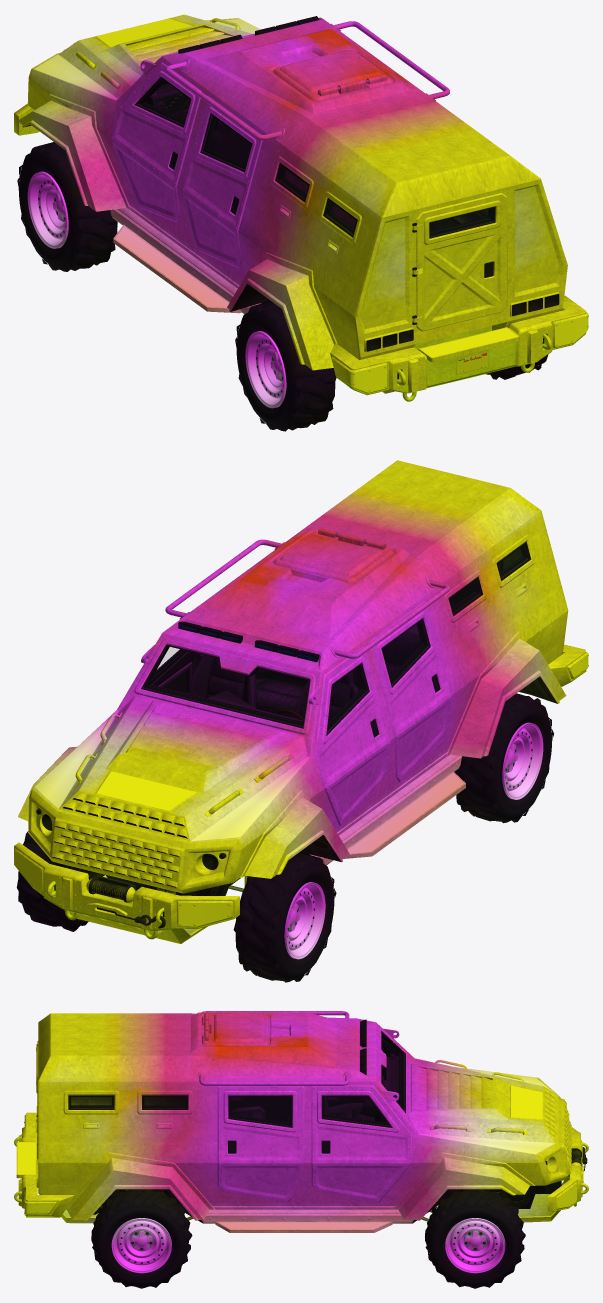
File: insurgent2.glb
The picture shows the model from 3 angles, top to bottom: view 1: azimuth 30°, elevation 25°; view 2: azimuth 150°, elevation 25°; view 3: azimuth 270°, elevation 25°; orthographic projection. The views are drawn at different scales.
Visible parts, largest first — view 1: bodyshell, boot, wheel_lr, wheel_lf, door_dside_f, door_dside_r, chassis, window_lr, window_lf, windscreen_r; view 2: bodyshell, chassis, wheel_lf, door_dside_f, wheel_lr, door_dside_r, wheel_rf, window_lr, door_pside_f, window_lf; view 3: bodyshell, door_pside_f, door_pside_r, wheel_rr, wheel_rf, chassis, window_rr, window_rf, door_dside_r, misc_c, misc_a, door_dside_f.
Boxes of the visible parts, left/top/right/bottom form: bodyshell: left=14, top=14, right=588, bottom=401; boot: left=412, top=193, right=507, bottom=331; wheel_lr: left=235, top=301, right=336, bottom=431; wheel_lf: left=17, top=142, right=117, bottom=271; door_dside_f: left=111, top=62, right=201, bottom=222; door_dside_r: left=181, top=96, right=262, bottom=267; chassis: left=25, top=81, right=559, bottom=351; window_lr: left=203, top=116, right=250, bottom=169; window_lf: left=139, top=79, right=189, bottom=124; windscreen_r: left=430, top=208, right=493, bottom=236; bodyshell: left=14, top=460, right=588, bottom=943; chassis: left=37, top=548, right=557, bottom=928; wheel_lf: left=233, top=853, right=336, bottom=982; door_dside_f: left=315, top=646, right=390, bottom=825; wheel_lr: left=454, top=693, right=553, bottom=823; door_dside_r: left=370, top=601, right=451, bottom=781; wheel_rf: left=16, top=831, right=88, bottom=931; window_lr: left=382, top=621, right=427, bottom=683; door_pside_f: left=148, top=649, right=194, bottom=693; window_lf: left=327, top=667, right=366, bottom=730; bodyshell: left=14, top=1011, right=588, bottom=1232; door_pside_f: left=311, top=1085, right=411, bottom=1202; door_pside_r: left=217, top=1086, right=304, bottom=1202; wheel_rr: left=91, top=1189, right=192, bottom=1288; wheel_rf: left=425, top=1189, right=525, bottom=1288; chassis: left=71, top=1032, right=587, bottom=1223; window_rr: left=229, top=1096, right=290, bottom=1125; window_rf: left=323, top=1096, right=389, bottom=1125; door_dside_r: left=231, top=1096, right=290, bottom=1122; misc_c: left=69, top=1096, right=113, bottom=1108; misc_a: left=143, top=1096, right=186, bottom=1108; door_dside_f: left=327, top=1038, right=398, bottom=1120.
Bounding box in the file's own units: 2.55 × 2.64 × 6.31.
19 materials, 19 textured.
